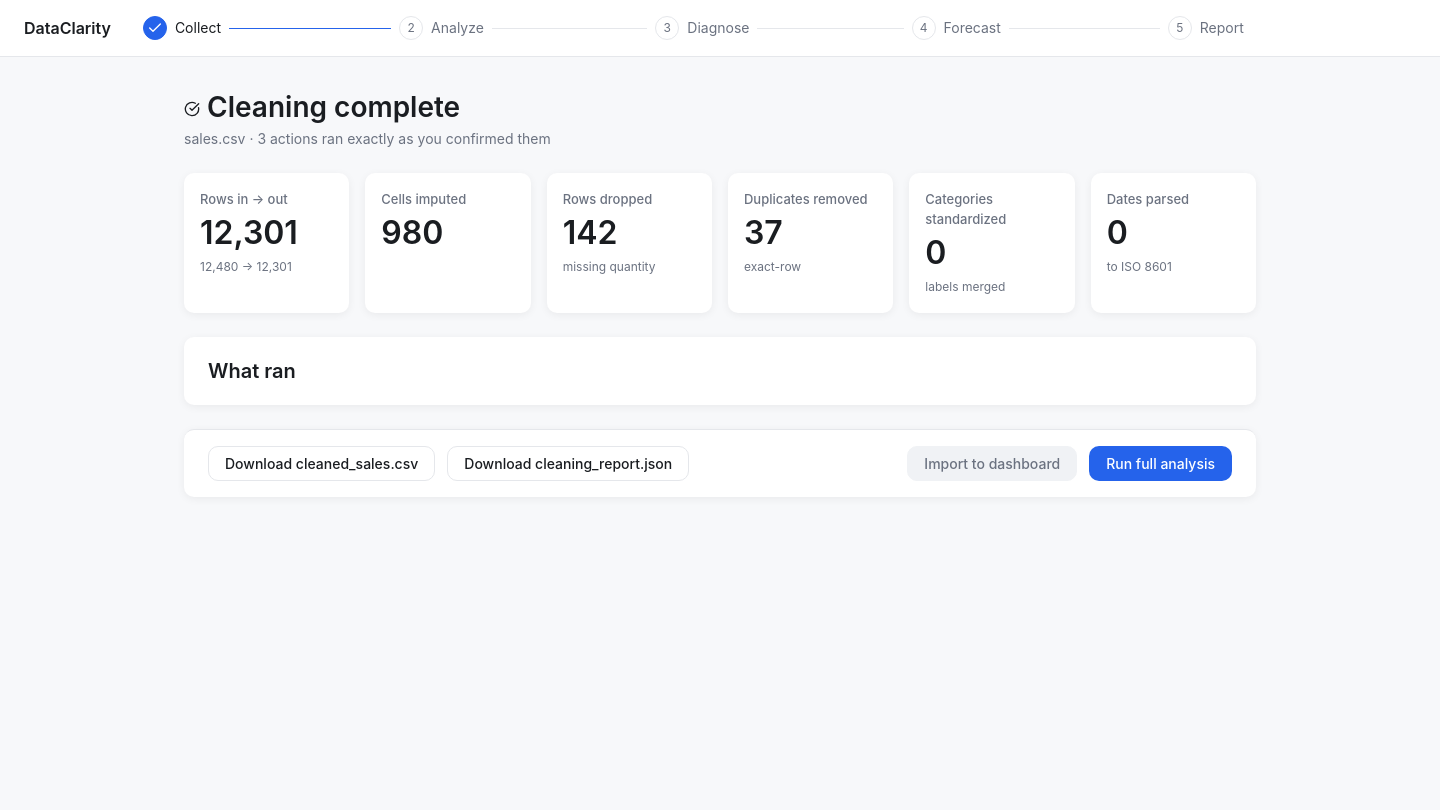
Test case: ResultsPage › fetches the cleaned CSV from the download endpoint and reports a failure
Click the button "Download cleaned_sales.csv".
click(322, 464)  # box [208,446,435,481]
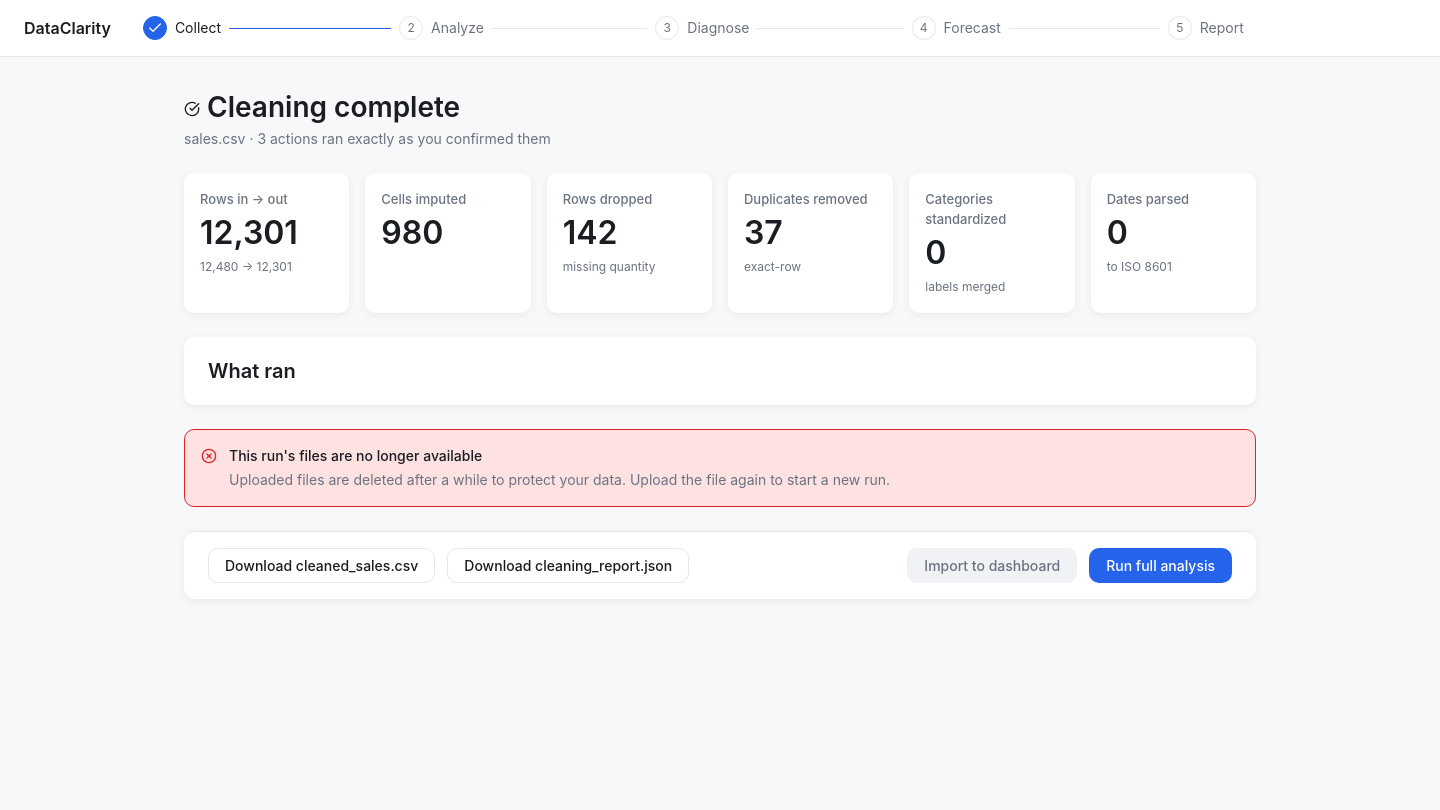
expect the text "This run's files are no longer available" is shown: met, box [229,447,482,464]
